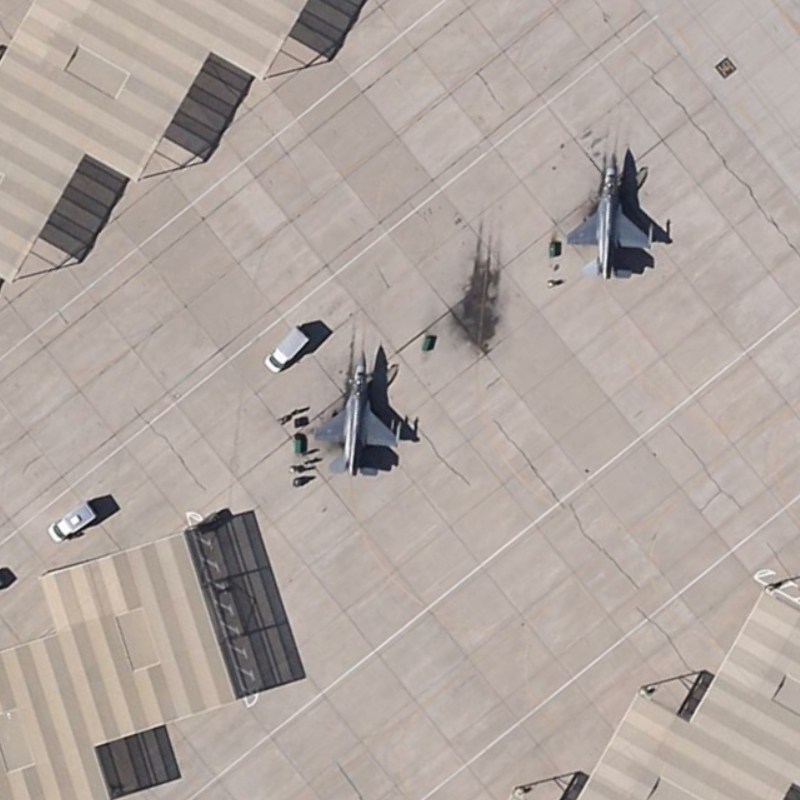A5: (304, 333, 411, 482), (557, 148, 665, 285)
